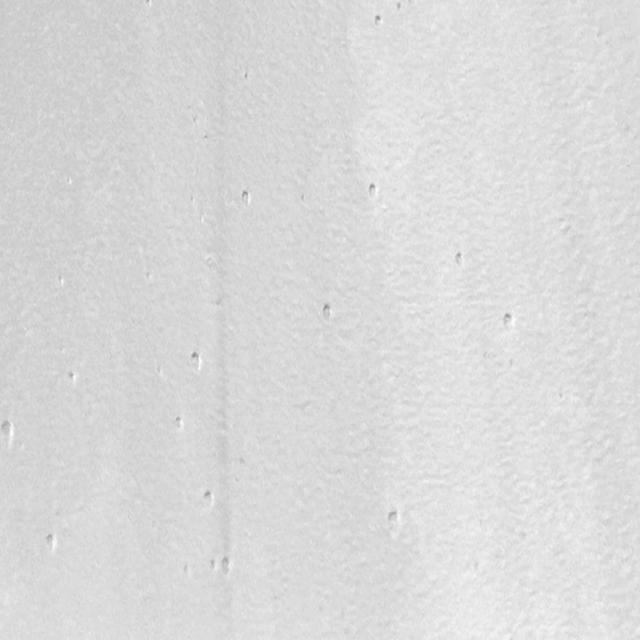pin holes: (384, 506, 404, 534), (185, 350, 207, 375), (498, 308, 520, 333), (40, 532, 61, 557), (316, 301, 337, 325), (1, 419, 18, 448), (364, 180, 384, 204), (450, 248, 469, 270), (171, 414, 190, 436), (202, 249, 221, 271), (220, 554, 236, 579), (238, 187, 256, 209), (200, 489, 218, 510), (65, 369, 79, 387), (54, 272, 68, 290), (394, 0, 413, 13), (182, 562, 194, 582), (372, 13, 386, 30), (207, 558, 220, 574), (240, 67, 253, 83), (141, 0, 154, 12)
